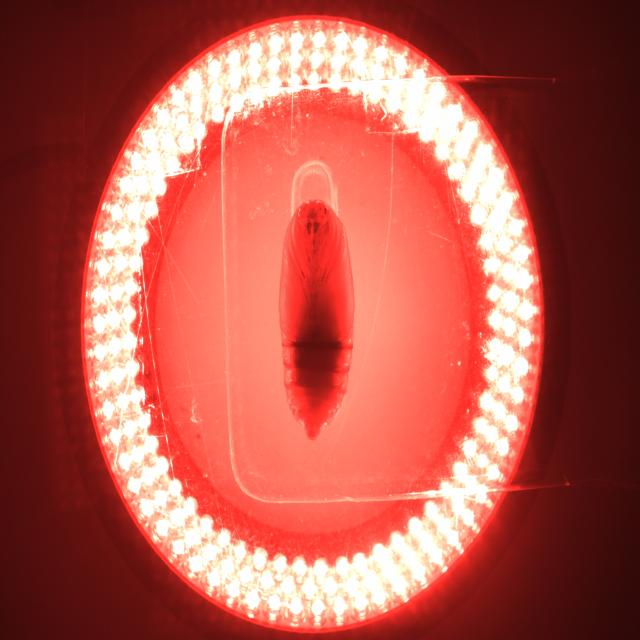female: (310, 419, 317, 430)
